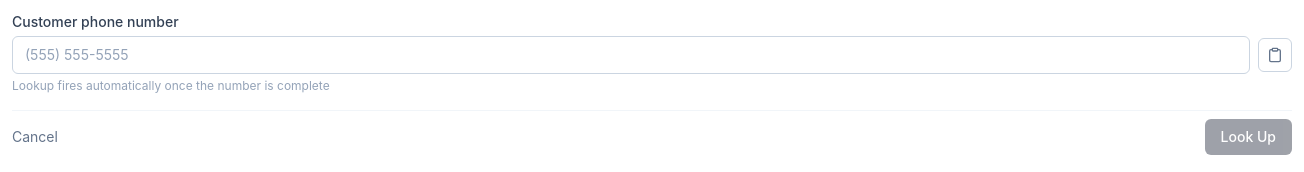
LookupGate phone formatting › shows an error hint for an invalid (too short) number and does not look up
Type "555555" into the field labelled "Customer phone number". click: (631, 55)
box: [12,36,1250,74]
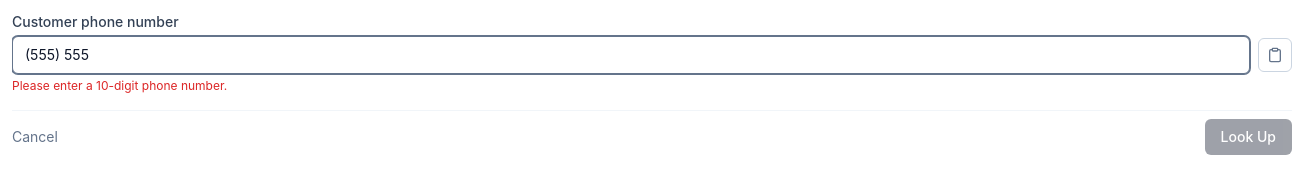
Expected: the text "Please enter a 10-digit phone number." is shown, [12,78,227,93]
